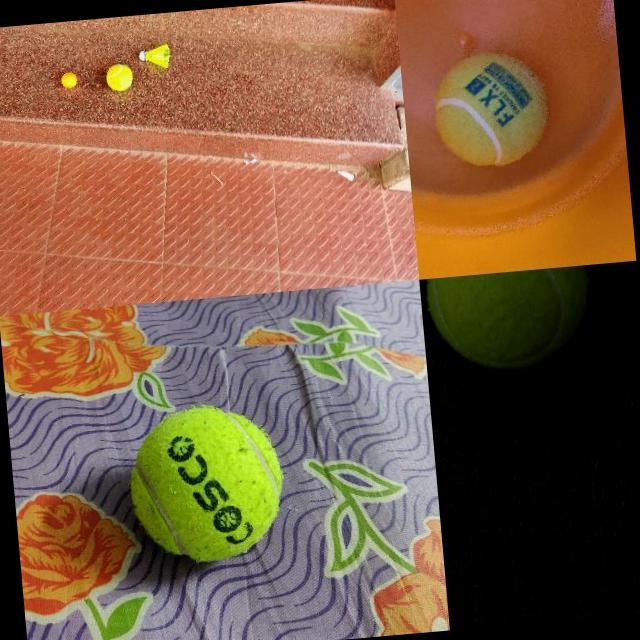Tennis Ball: (123, 399, 290, 567), (422, 264, 596, 374), (430, 48, 550, 170), (104, 62, 132, 92)
